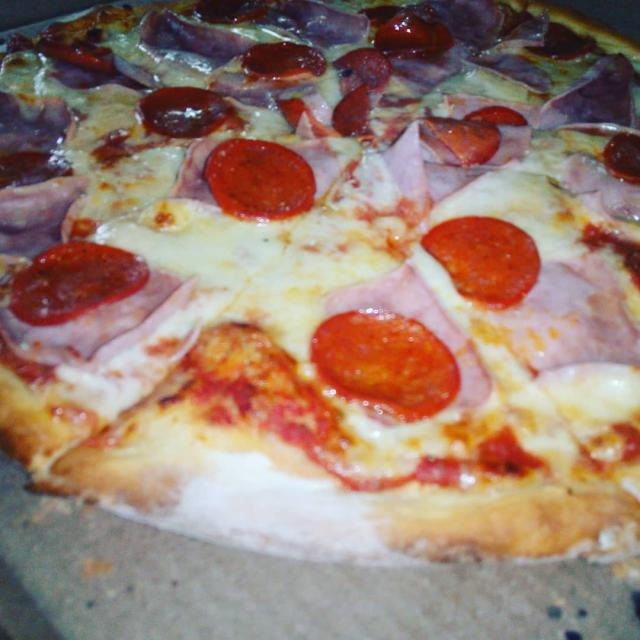pepperoni: (307, 298, 464, 426), (5, 240, 149, 327), (420, 212, 542, 312), (202, 136, 317, 227), (416, 98, 530, 170), (131, 80, 246, 140), (272, 84, 378, 140), (376, 8, 459, 62), (239, 36, 326, 86), (1, 144, 74, 194), (39, 34, 118, 73), (598, 117, 640, 188), (332, 47, 392, 92), (525, 26, 601, 60), (195, 0, 276, 25)
pizza: (0, 0, 640, 564)
